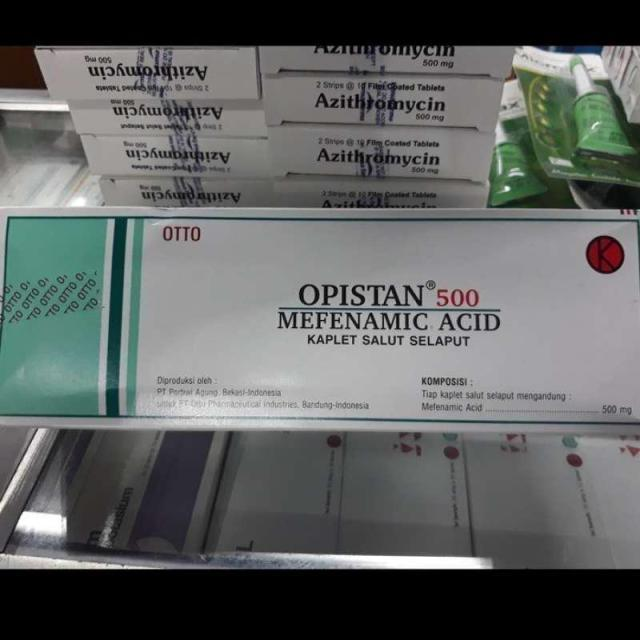drug-name: (296, 274, 482, 308)
